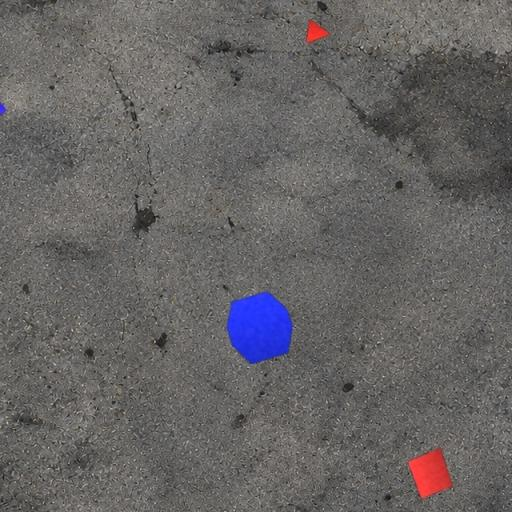RED_SQUARE: (406, 447, 454, 499)
